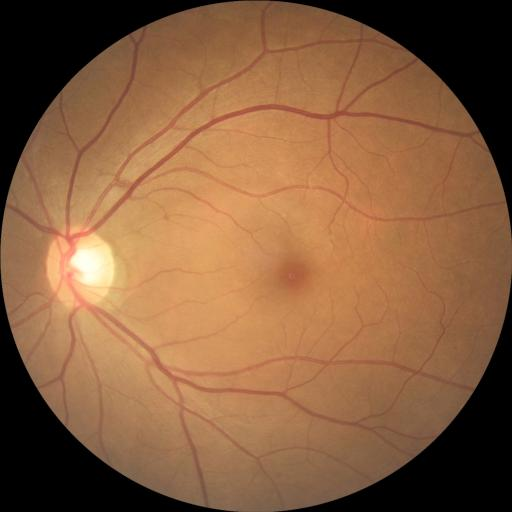Optic Cup: (70, 248, 103, 284)
Optic Disc: (47, 224, 114, 310)
